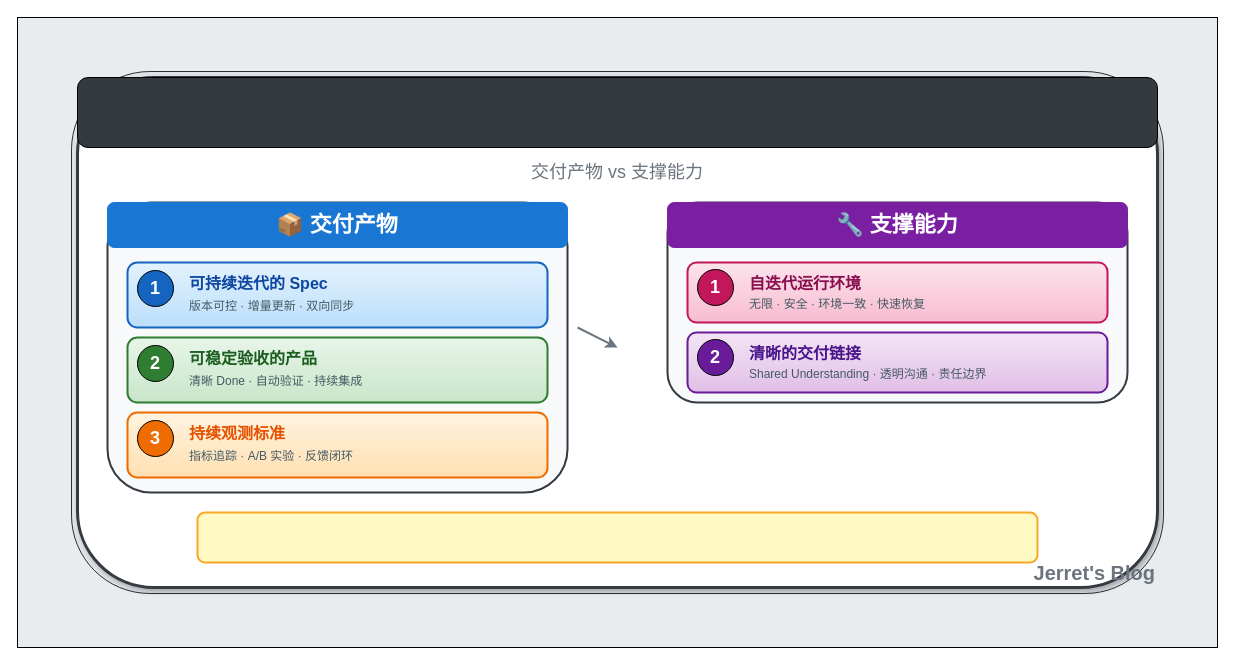
This 1235x665 diagram has some shape labels left out. The centre of each missing label's shape, as x and y in pixels:
"⚡ 未来没来之前：对现有产研流程的重塑和增强" belongs at (617,537).
"未来产研形态迭代" belongs at (617,112).
